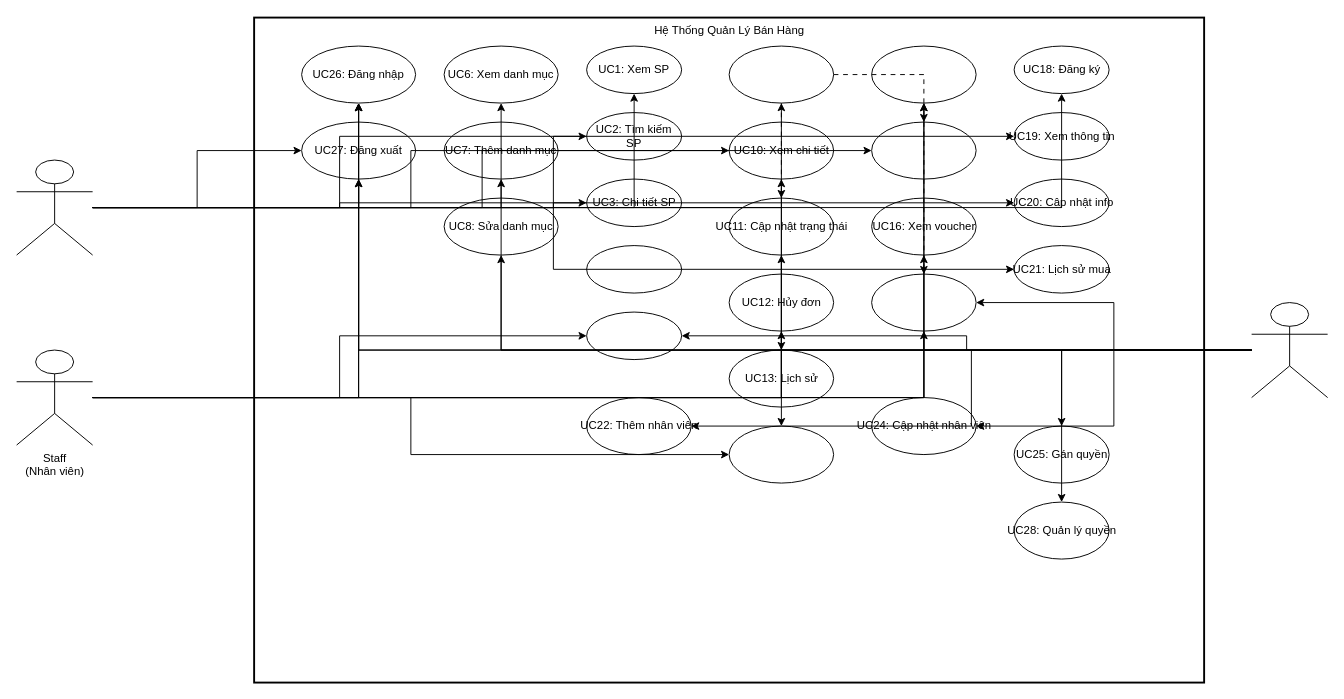
The diagram is 1344 pixels wide and 699 high, and some of its shapes have lost their labels. The box of each missing label's shape, as (x1, y1, x2, y2) in pixels:
Admin (Quản trị): (1251, 302, 1328, 398)
Customer (Khách hàng): (16, 159, 93, 255)
UC14: Tạo voucher: (871, 45, 976, 103)
UC15: Áp dụng voucher: (871, 121, 976, 179)
UC17: Kho voucher: (871, 273, 976, 331)
UC23: Xem DS nhân viên: (728, 425, 834, 483)
UC4: Tồn kho: (586, 245, 682, 293)
UC5: Cập nhật SP: (586, 311, 682, 360)
UC9: Tạo đơn hàng: (728, 45, 834, 103)
